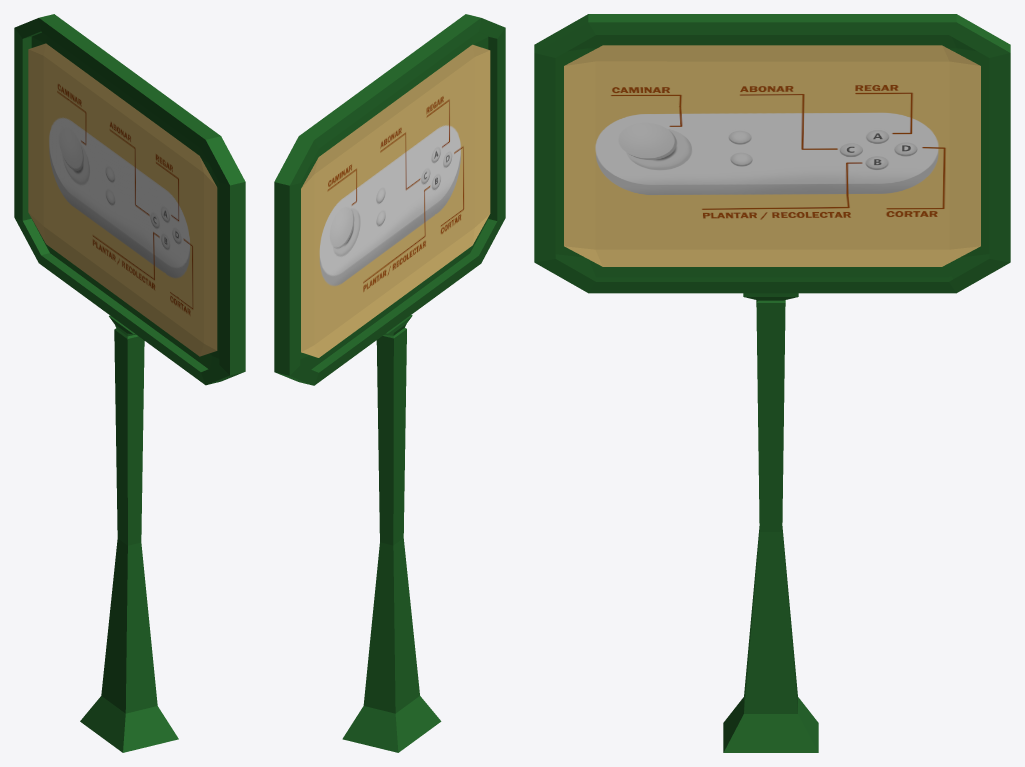
The model's file is cartel_nuevo.fbx.
The picture shows the model from 3 angles, left to right: view 1: azimuth 30°, elevation 25°; view 2: azimuth 150°, elevation 25°; view 3: azimuth 270°, elevation 25°; orthographic projection. The views are drawn at different scales.
Parts seen in each view (by area): view 1: Cube.003, Cube.004; view 2: Cube.003, Cube.004; view 3: Cube.002, Cube.004.
Boxes of the visible parts, bbox=[...] form: Cube.003: bbox=[28, 43, 217, 356]; Cube.004: bbox=[14, 14, 245, 752]; Cube.003: bbox=[301, 44, 490, 357]; Cube.004: bbox=[274, 14, 505, 752]; Cube.002: bbox=[564, 45, 980, 266]; Cube.004: bbox=[534, 14, 1010, 752].
Size of the model in its own units: 13.79 by 153 by 91.77.
2 materials, 1 textured.
